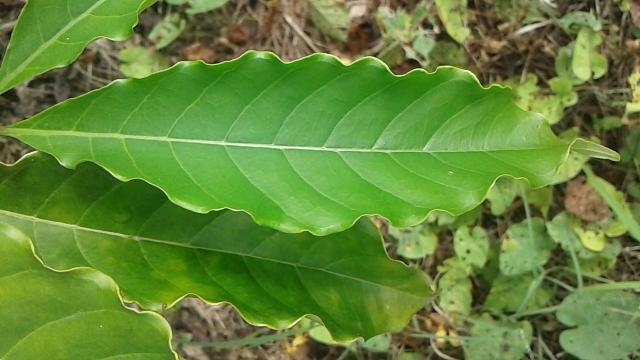healthy: (2, 46, 634, 240)
